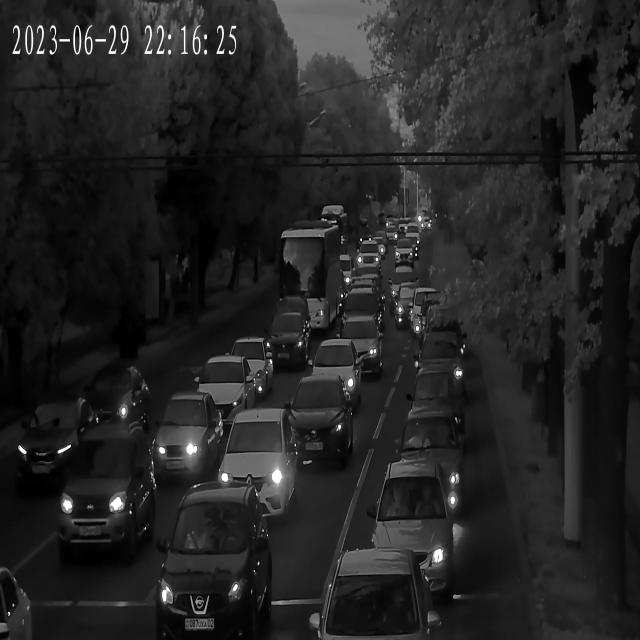Bus: (277, 226, 327, 333), (321, 207, 348, 247)
Car: (161, 490, 274, 634), (369, 461, 459, 606), (61, 422, 153, 563), (212, 413, 302, 522), (385, 412, 464, 530), (316, 572, 439, 640), (136, 395, 223, 482), (13, 398, 78, 507), (282, 380, 352, 464), (81, 367, 157, 442), (191, 355, 260, 423), (304, 341, 363, 413), (407, 366, 465, 430), (326, 320, 382, 380), (412, 335, 466, 397), (222, 340, 273, 402), (260, 313, 313, 371), (399, 289, 450, 339), (338, 290, 387, 342), (414, 304, 465, 352), (0, 565, 32, 638), (276, 299, 328, 343), (419, 326, 471, 368), (388, 277, 427, 317), (338, 258, 363, 287), (390, 240, 414, 264), (355, 246, 381, 268), (403, 230, 421, 249), (371, 235, 389, 252)
